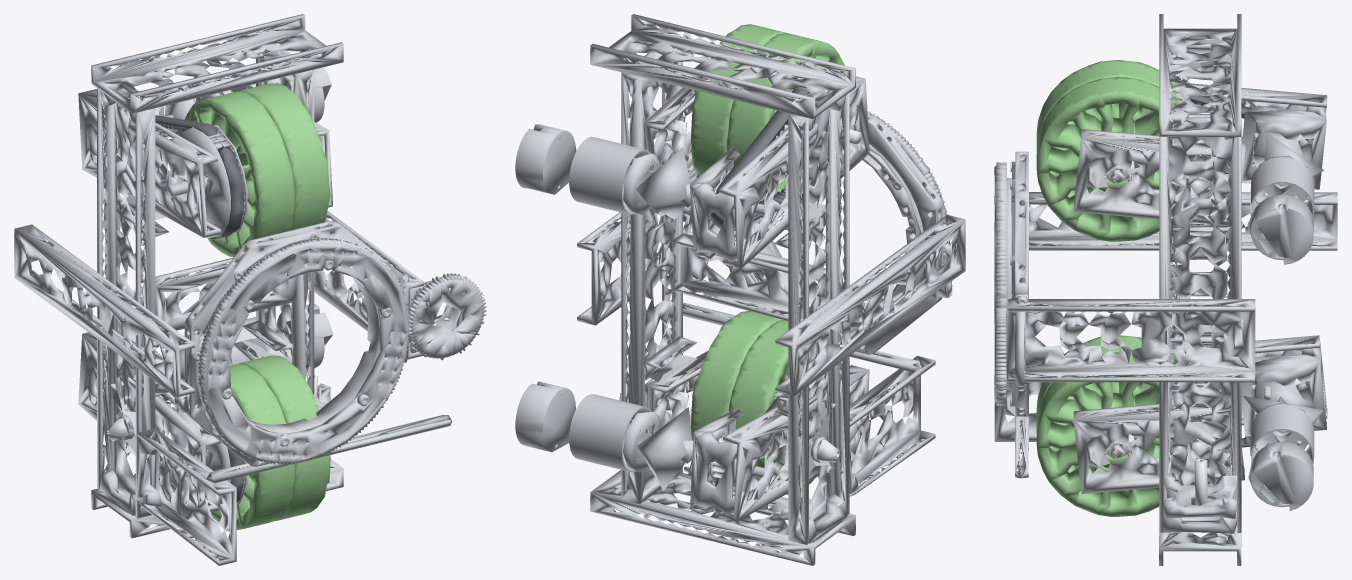
3 views of the same model, side by side, from view 1: azimuth 30°, elevation 25°; view 2: azimuth 150°, elevation 25°; view 3: azimuth 270°, elevation 25° (orthographic). The views are drawn at different scales.
Visible parts, largest first — view 1: part_0, part_1, part_3, part_2; view 2: part_0, part_1, part_2, part_3; view 3: part_0, part_1, part_2.
Boxes of the visible parts, left/top/right/bottom form: part_0: left=14, top=14, right=486, bottom=565; part_1: left=182, top=83, right=330, bottom=529; part_3: left=121, top=115, right=244, bottom=511; part_2: left=106, top=147, right=317, bottom=469; part_0: left=515, top=14, right=965, bottom=565; part_1: left=691, top=24, right=844, bottom=494; part_2: left=619, top=119, right=861, bottom=487; part_3: left=711, top=89, right=809, bottom=514; part_0: left=994, top=14, right=1337, bottom=565; part_1: left=1036, top=60, right=1196, bottom=516; part_2: left=1104, top=104, right=1306, bottom=505.
Size of the model in its own units: 0.2064 by 0.288 by 0.2004.
